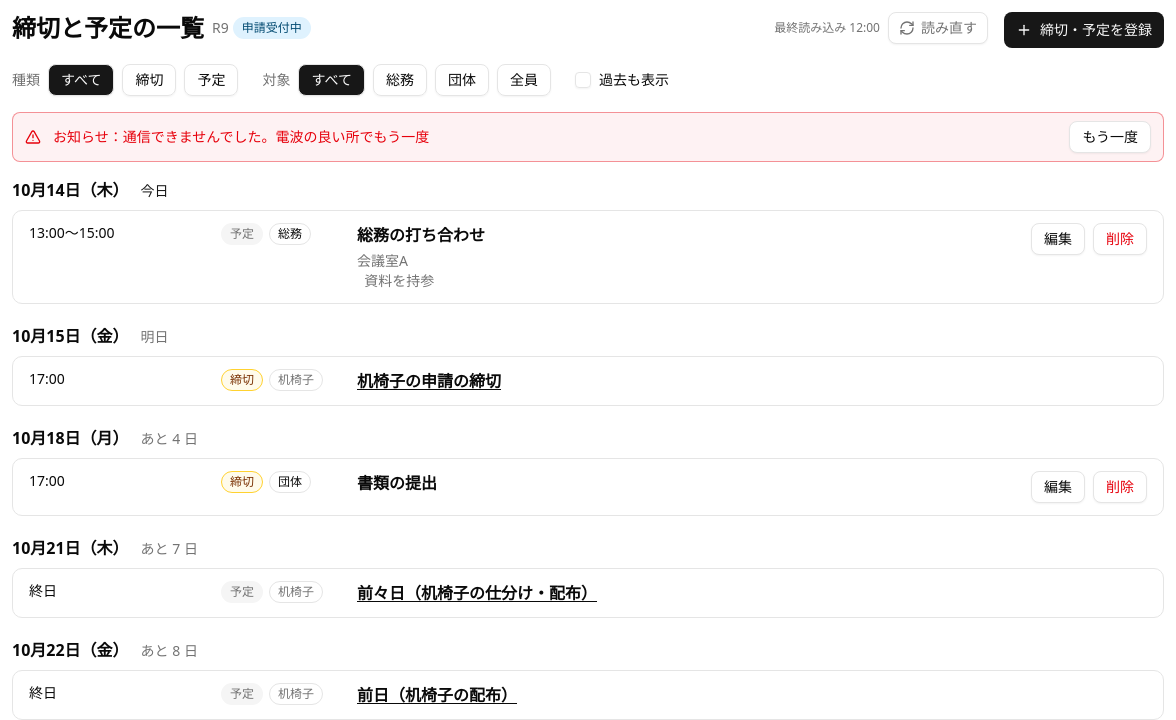
Test: T18 締切と予定：総務部門長 › 機能の日付の読み取りが失敗したら、その機能の分だけ失敗と「もう一度」を一覧の上に出す（項目とほかの日付は出したまま）
Expected: the message with test id "portal-module-error" shows "お知らせ：通信できませんでした", [12,112,1164,162]
Expected: the list item with test id "calendar-item" showing "総務の打ち合わせ 会議室A 資料を持参 編集 削除" is shown, [357,223,1147,290]
Click the button "もう一度": x=1110, y=137 [1069,121,1151,153]
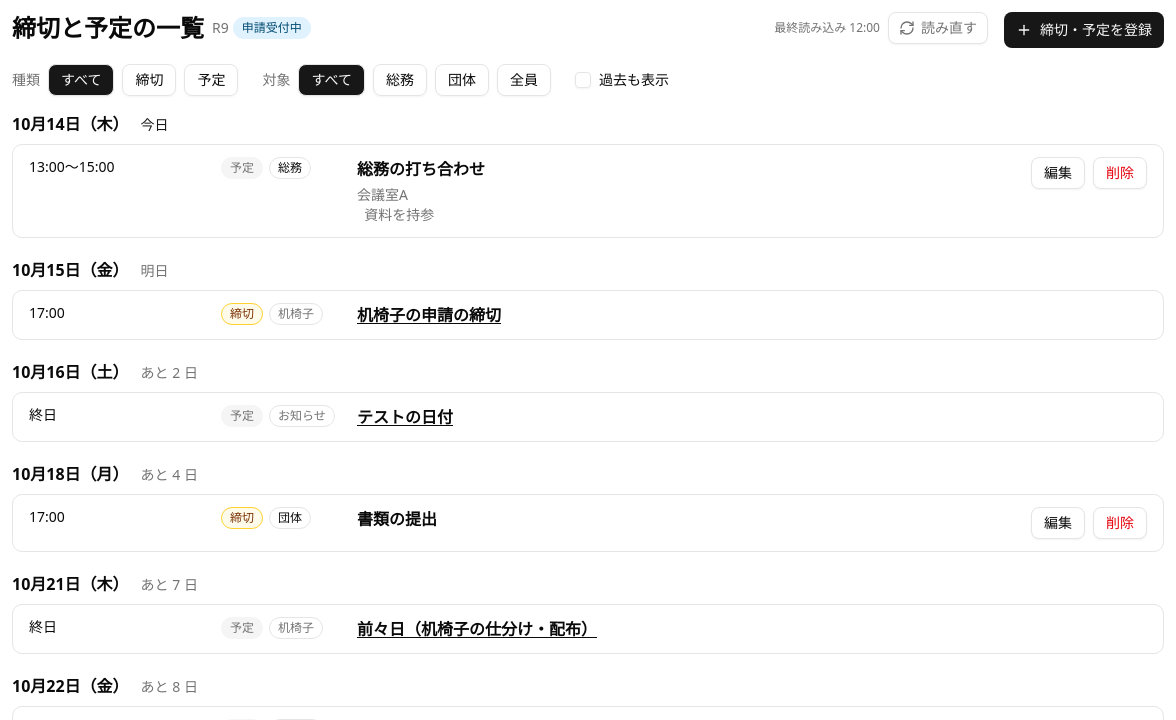
Now the message with test id "portal-module-error" is gone
